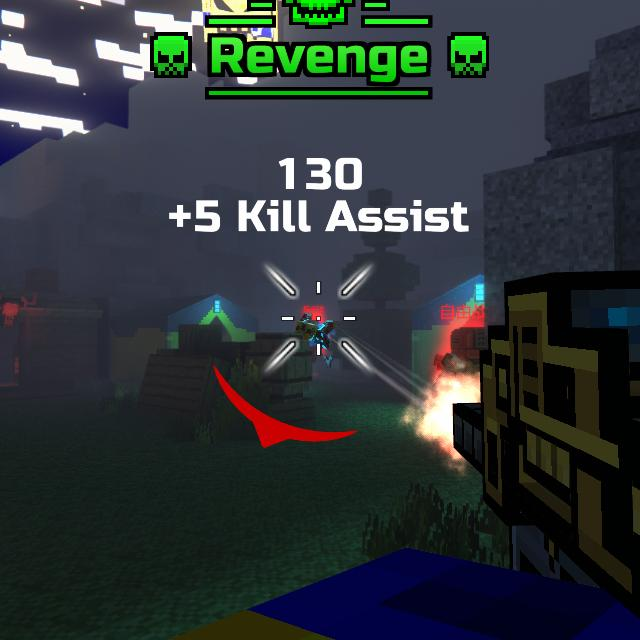Enemy: (441, 327, 484, 376)
